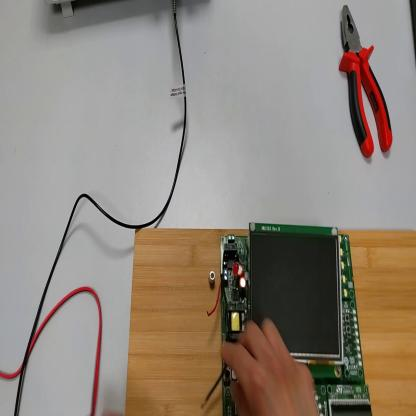hand: (220, 318, 320, 415)
low voltage board: (203, 223, 372, 415)
pliers: (339, 5, 395, 164)
welder station: (411, 2, 416, 62)
working area: (126, 223, 416, 414)
